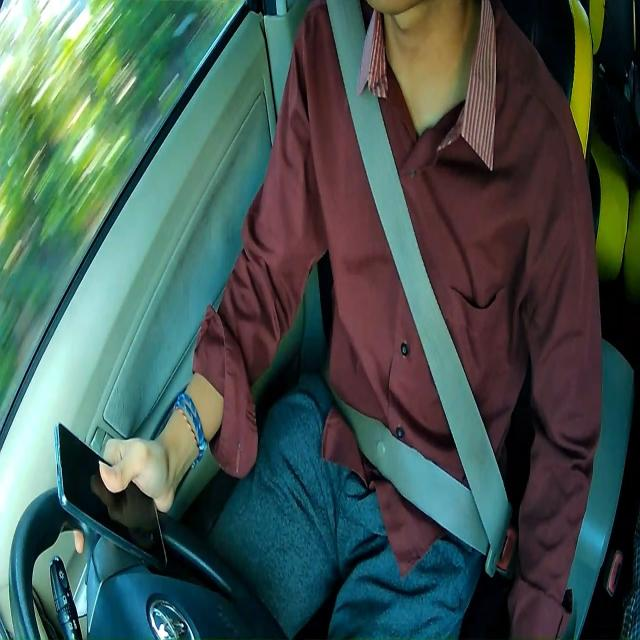phone: (54, 416, 170, 575)
